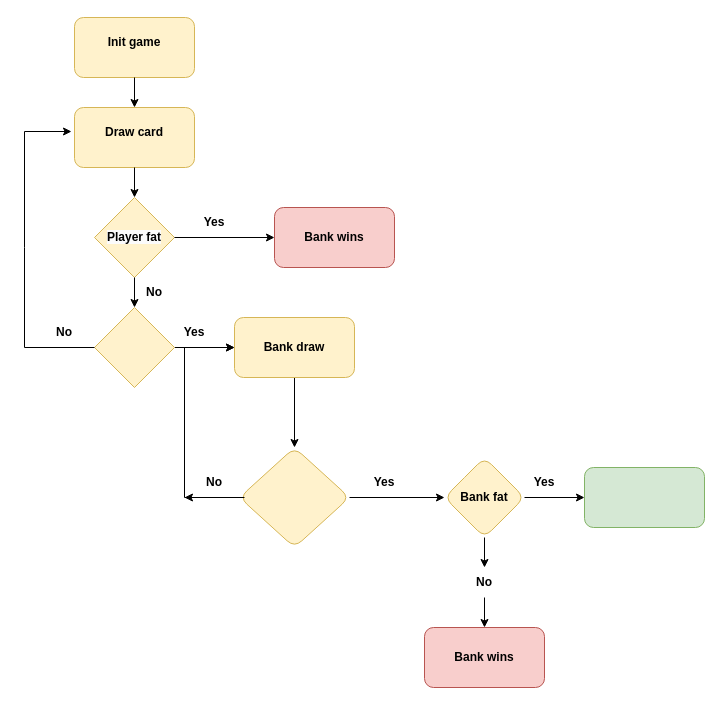
This 722x705 diagram has some shape labels left out. Each missing label, with the centre of its shape:
Bank > Player: pixel 294 497
Player wins: pixel 644 497
Stop: pixel 134 347
